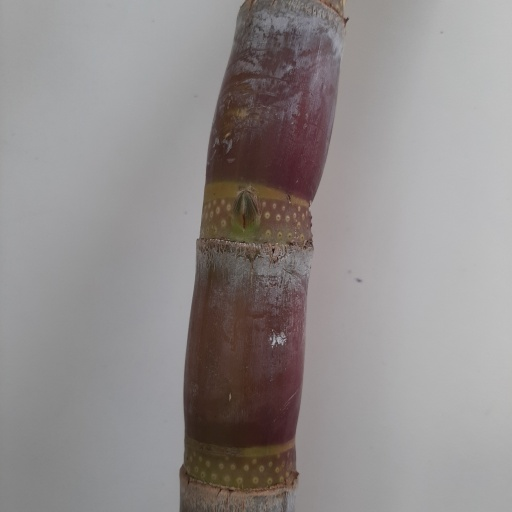Bud: (231, 190, 260, 232)
